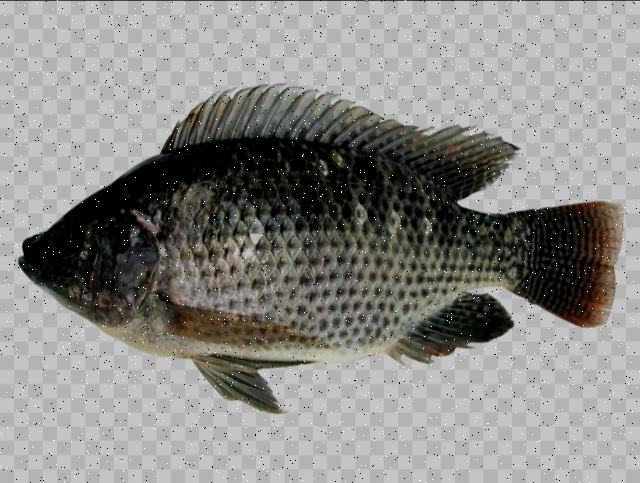Mulut: (0, 214, 66, 312)
Sirip Anal: (377, 274, 525, 374)
Sirip Dada: (519, 178, 637, 346), (141, 275, 327, 361)
Sirip Perut: (182, 346, 322, 432)
Sirip Punggung: (152, 73, 528, 214)
